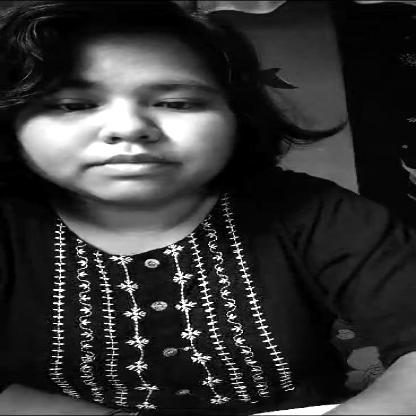Normal: (2, 17, 265, 204)
